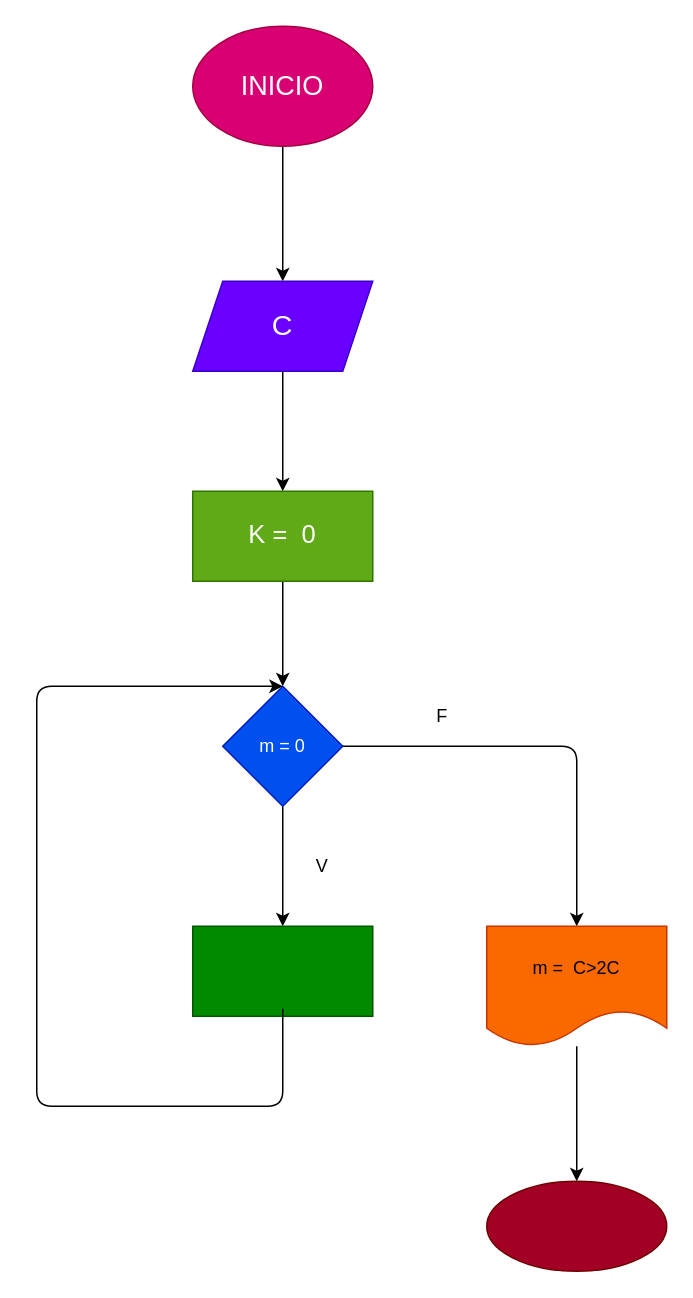
Image size: 693x1298. Some labels were removed from this diagram. Here are the shapes that lost their labels. From the top down, the box of each, then its label:
(191, 925, 373, 1016): K = 2c*0.05 m = m+1
(485, 1180, 667, 1271): FIN
